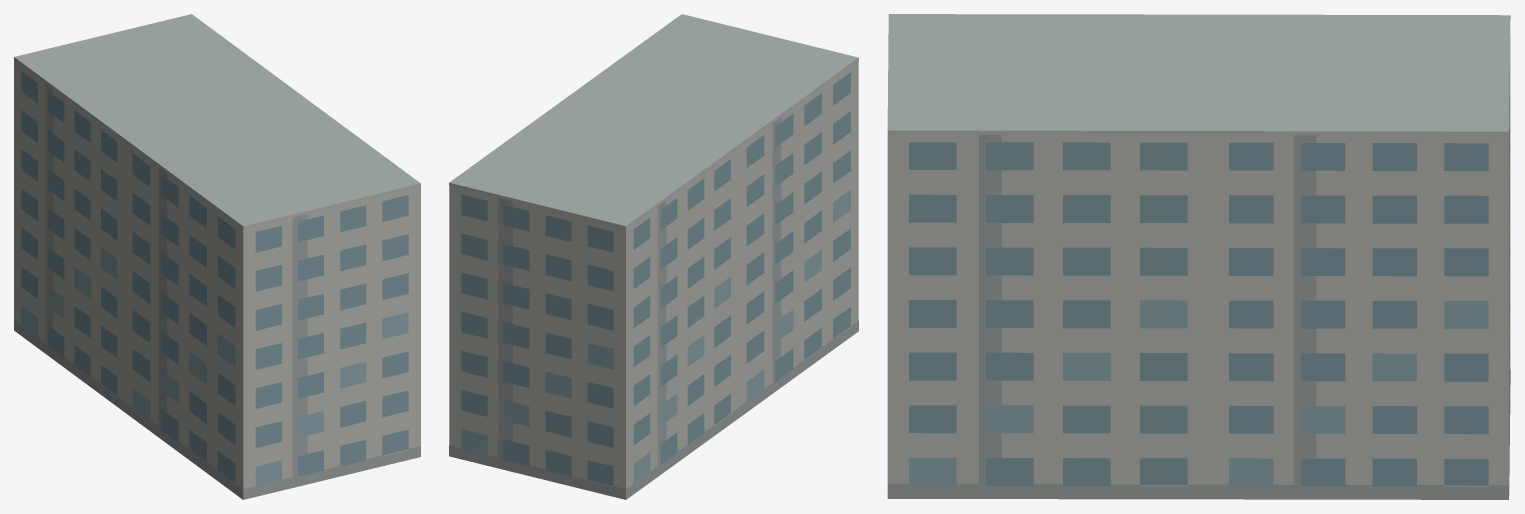
The model's file is residential-2dfa0f77-62e2-4b4f-9f87-09d16a5d87c3.glb.
The picture shows the model from 3 angles, left to right: view 1: azimuth 30°, elevation 25°; view 2: azimuth 150°, elevation 25°; view 3: azimuth 270°, elevation 25°; orthographic projection. The views are drawn at different scales.
Visible parts, largest first — view 1: residential-2dfa0f77-62e2-4b4f-9f87-09d16a5d87c3.tmp; view 2: residential-2dfa0f77-62e2-4b4f-9f87-09d16a5d87c3.tmp; view 3: residential-2dfa0f77-62e2-4b4f-9f87-09d16a5d87c3.tmp.
Part boxes in pixels (bbox=[...]): residential-2dfa0f77-62e2-4b4f-9f87-09d16a5d87c3.tmp: bbox=[14, 14, 420, 499]; residential-2dfa0f77-62e2-4b4f-9f87-09d16a5d87c3.tmp: bbox=[449, 14, 858, 499]; residential-2dfa0f77-62e2-4b4f-9f87-09d16a5d87c3.tmp: bbox=[887, 14, 1510, 499].
Bounding box in the file's own units: 14.63 × 21.35 × 32.74.
